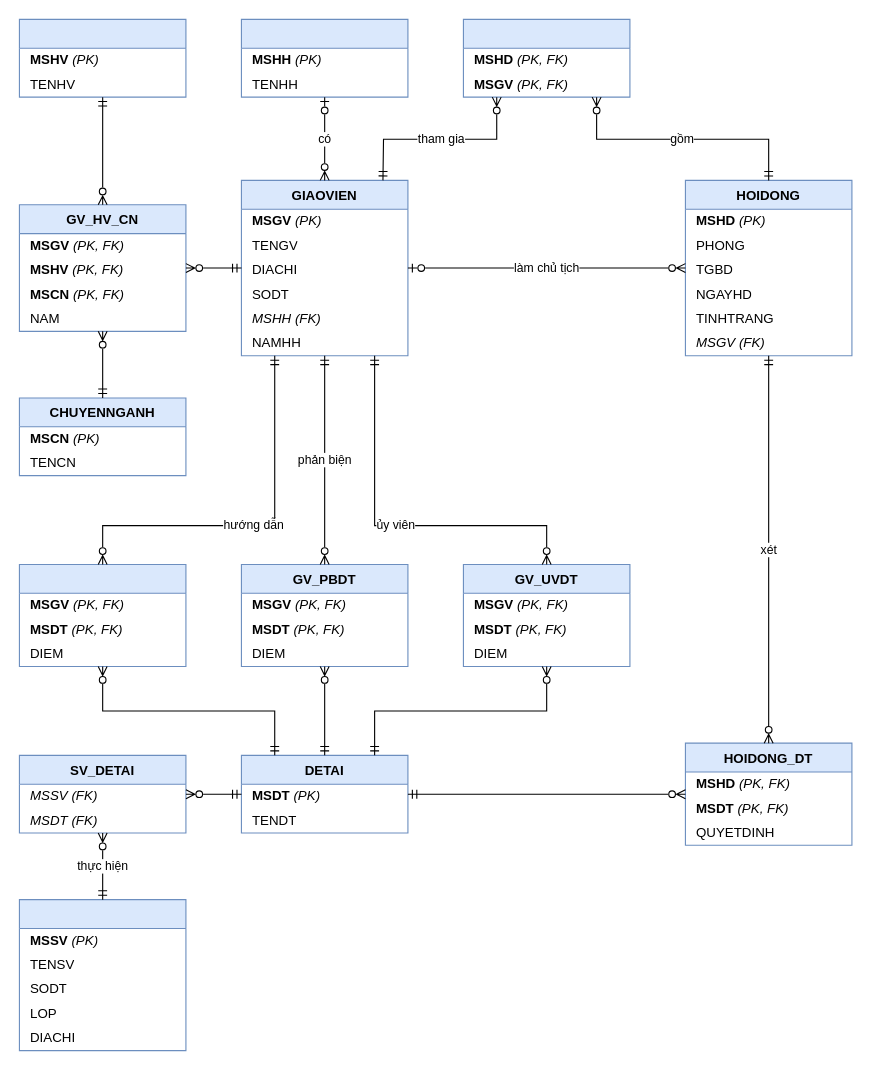
The diagram is 871 pixels wide and 1070 high, and some of its shapes have lost their labels. Here are the shapes that lost their labels. From the top down, the box of each, then its label:
(18, 18, 186, 97): HOCVI
(240, 18, 408, 97): HOCHAM
(462, 18, 630, 97): HOIDONG_GV
(18, 563, 186, 667): GV_HDDT
(18, 899, 186, 1051): SINHVIEN
